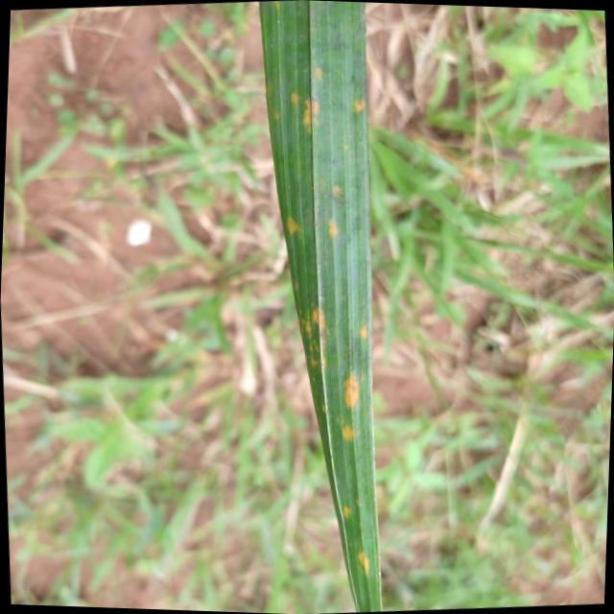Kalium: (257, 0, 384, 614)
